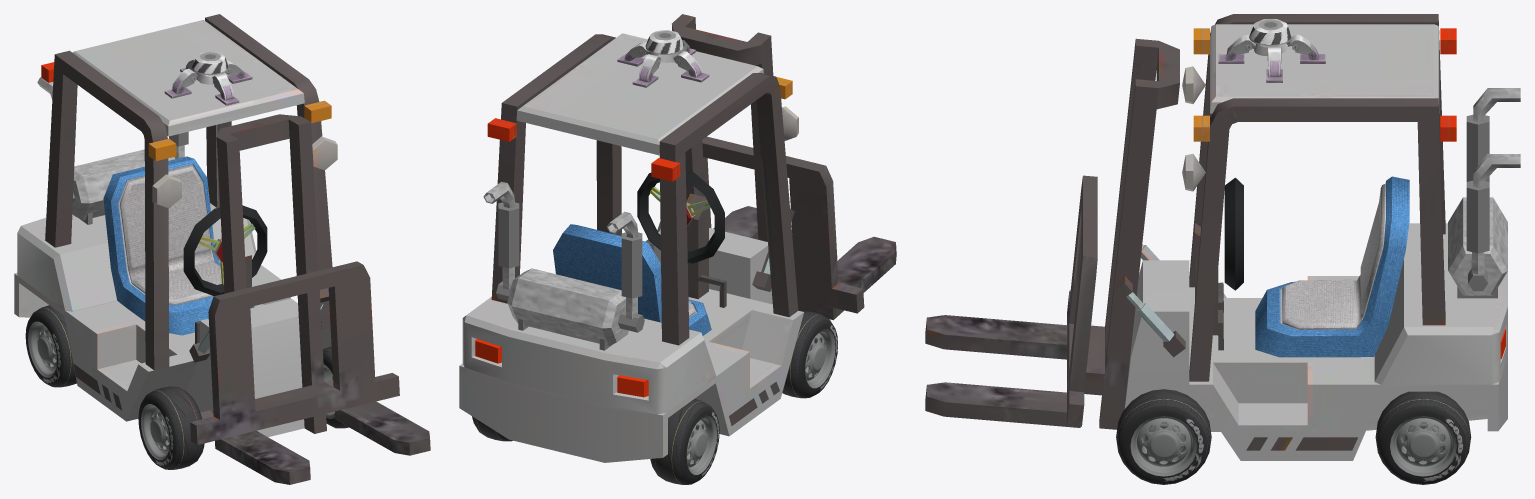
File: 11-Forklift-Stock-White.glb
3 views of the same model, side by side, from view 1: azimuth 30°, elevation 25°; view 2: azimuth 150°, elevation 25°; view 3: azimuth 270°, elevation 25° (orthographic). The views are drawn at different scales.
Visible parts, largest first — view 1: Forklift.001, Regular, Tire (×2), Engine_006, Aero (×2), Torus, WEAPON MOUNT-Default_OBJ_3, INT_WHEEL_005; view 2: Forklift.001, Engine_006, Regular, Tire (×2), Aero (×2), Torus, WEAPON MOUNT-Default_OBJ_3; view 3: Forklift.001, Regular, Engine_006, Tire (×2), Aero (×2), Torus, WEAPON MOUNT-Default_OBJ_3.
Part boxes in pixels (left/top/right/bottom): Forklift.001: left=14, top=14, right=430, bottom=484; Regular: left=103, top=156, right=254, bottom=335; Tire (×2): left=25, top=305, right=204, bottom=469; Engine_006: left=37, top=77, right=188, bottom=224; Aero (×2): left=28, top=321, right=169, bottom=460; Torus: left=183, top=205, right=267, bottom=295; WEAPON MOUNT-Default_OBJ_3: left=191, top=51, right=228, bottom=84; INT_WHEEL_005: left=198, top=223, right=255, bottom=284; Forklift.001: left=459, top=14, right=896, bottom=462; Engine_006: left=483, top=181, right=644, bottom=350; Regular: left=553, top=224, right=711, bottom=335; Tire (×2): left=650, top=310, right=837, bottom=484; Aero (×2): left=686, top=329, right=835, bottom=474; Torus: left=637, top=170, right=724, bottom=263; WEAPON MOUNT-Default_OBJ_3: left=645, top=30, right=684, bottom=62; Forklift.001: left=925, top=14, right=1507, bottom=460; Regular: left=1255, top=176, right=1409, bottom=357; Engine_006: left=1448, top=88, right=1520, bottom=298; Tire (×2): left=1116, top=389, right=1471, bottom=484; Aero (×2): left=1130, top=416, right=1456, bottom=476; Torus: left=1224, top=177, right=1243, bottom=290; WEAPON MOUNT-Default_OBJ_3: left=1249, top=19, right=1291, bottom=55.
Size of the model in its own units: 4.28 by 7.16 by 9.47.
Materials: 8 (8 with a texture image).
